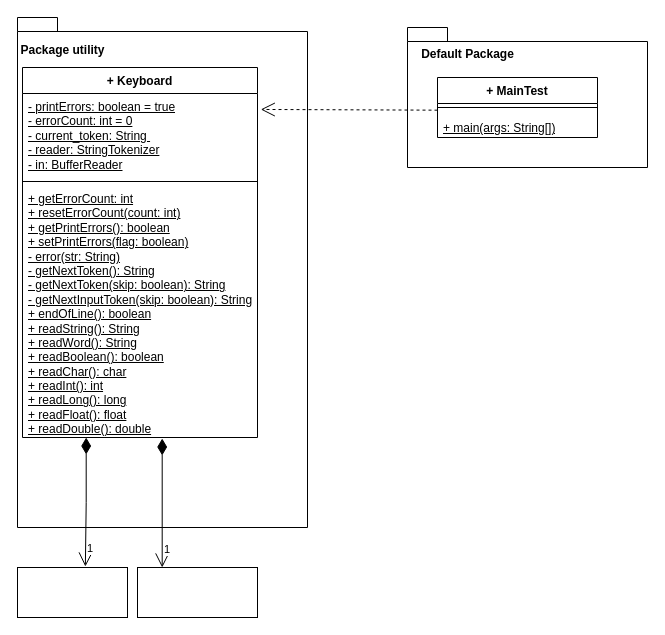
Some shapes in this 665 by 635 pixel diagram are drawn without their labels. The shapes that lost their labels are listed below. From the top down, each one's box as (x1, y1, x2, y2) in pixels, then its label:
(16, 566, 128, 618): StringTokenizer
(136, 566, 258, 618): BufferedReader
